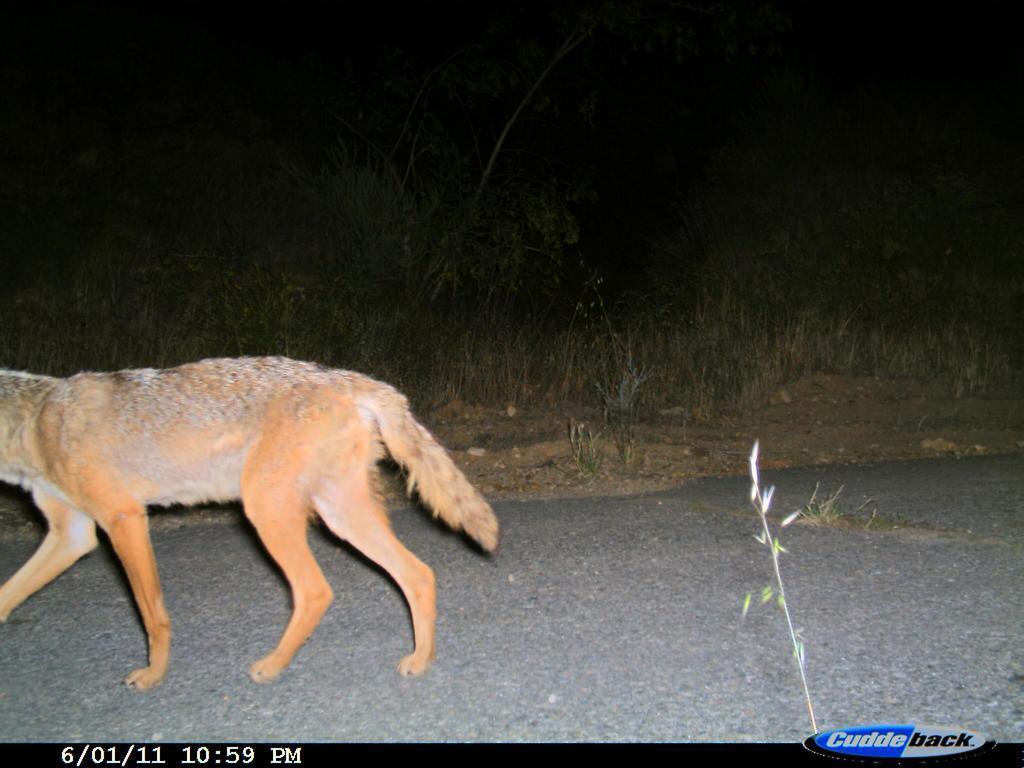coyote: (4, 346, 511, 706)
